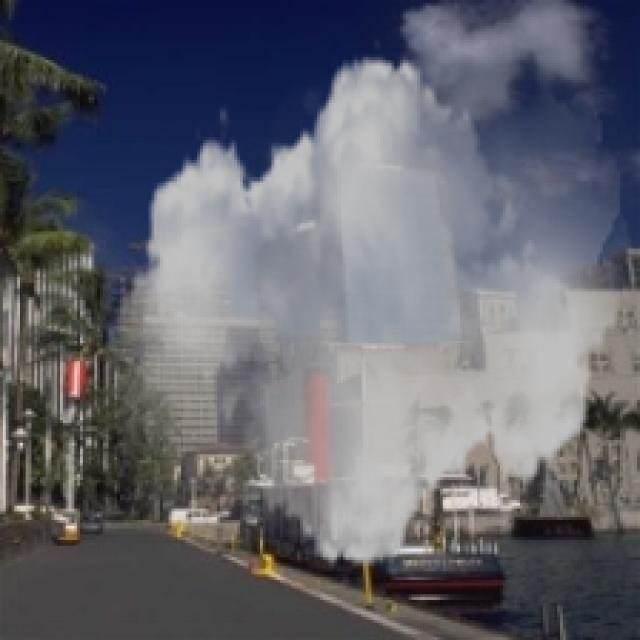Smoke: (106, 34, 632, 589)
